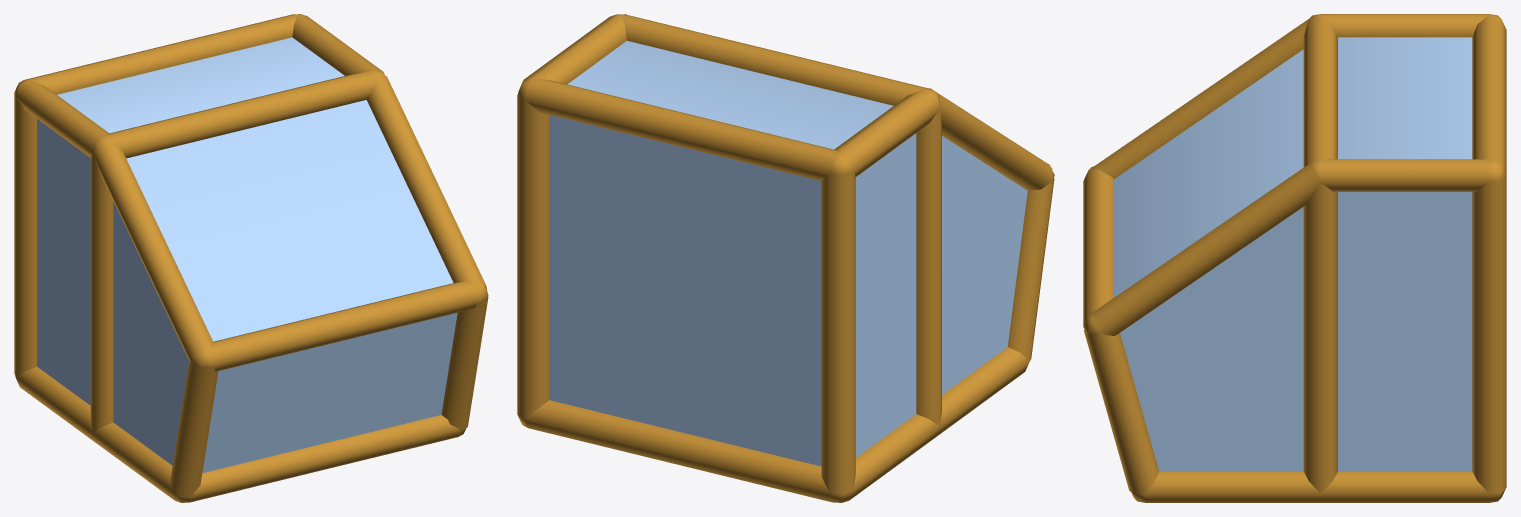
File: Cage.fbx
3 renders of one model, left to right at view 1: azimuth 30°, elevation 25°; view 2: azimuth 150°, elevation 25°; view 3: azimuth 270°, elevation 25°, orthographic. The views are drawn at different scales.
Parts seen in each view (by area): view 1: Cube, Cube_2_2; view 2: Cube, Cube_2_2; view 3: Cube, Cube_2_2.
Part boxes in pixels (x1,y1,x2,y2): Cube: (37, 37, 457, 472); Cube_2_2: (14, 14, 488, 502); Cube: (549, 41, 1027, 466); Cube_2_2: (517, 14, 1054, 502); Cube: (1113, 37, 1472, 471); Cube_2_2: (1083, 14, 1506, 502).
Bounding box in the file's own units: 381 × 381 × 427.
